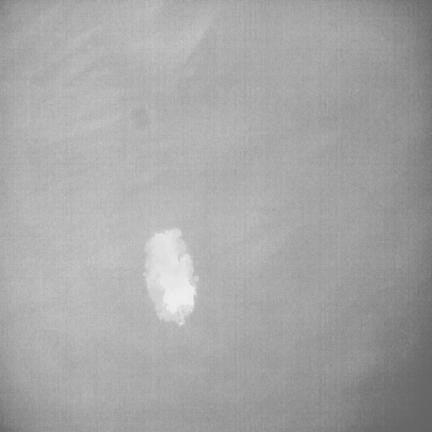flukeprints: (143, 229, 197, 325)
